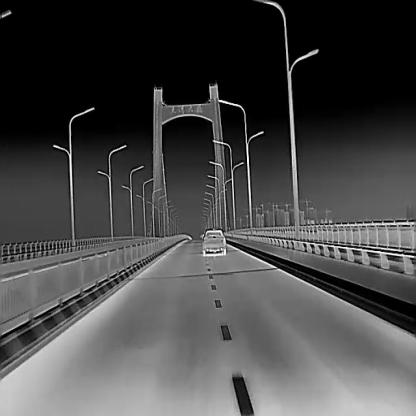car: (202, 228, 226, 255)
